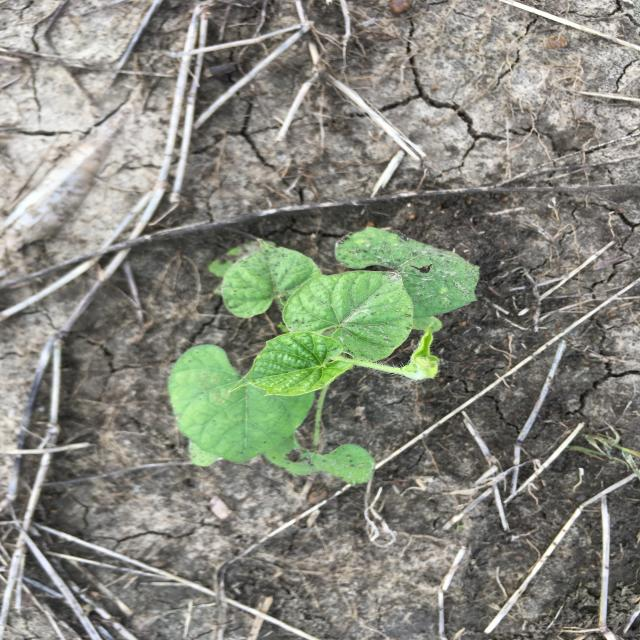MorningGlory: (164, 226, 484, 488)
